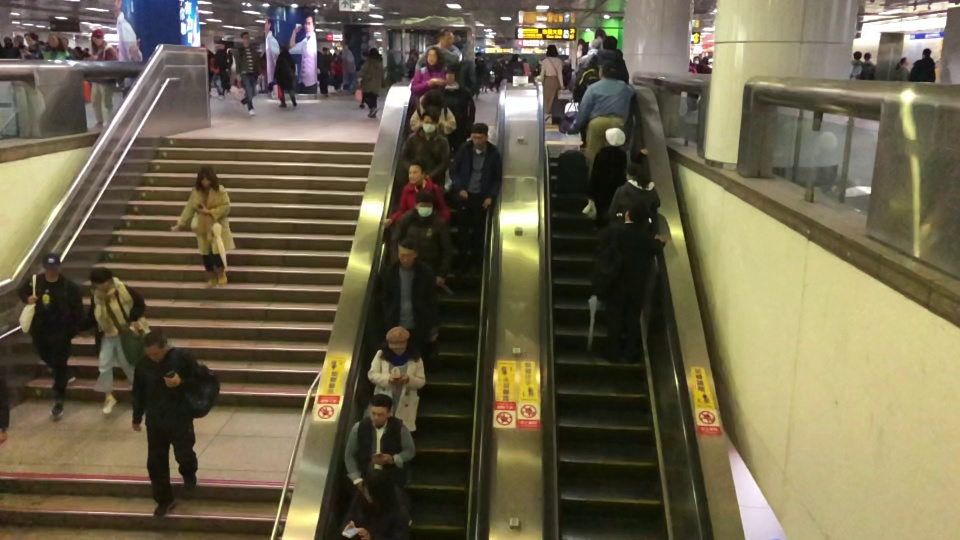person_head: (359, 467, 392, 503), (140, 326, 170, 364), (367, 392, 393, 430), (384, 324, 410, 356), (394, 237, 419, 268), (600, 124, 628, 150), (623, 201, 650, 227), (88, 265, 113, 293), (40, 250, 62, 280), (407, 156, 429, 186), (414, 188, 434, 217), (195, 166, 219, 189), (419, 110, 439, 136), (471, 119, 489, 147), (597, 59, 620, 80), (625, 158, 644, 183), (442, 62, 460, 86), (426, 46, 442, 70), (437, 29, 455, 50), (600, 34, 619, 50), (89, 29, 105, 45), (47, 34, 60, 50), (23, 31, 39, 44), (545, 44, 559, 58), (588, 37, 601, 50), (367, 46, 379, 59), (240, 32, 251, 46), (277, 44, 289, 55), (852, 49, 863, 61), (921, 47, 933, 58), (863, 50, 873, 62), (898, 56, 909, 66), (693, 54, 700, 66), (218, 40, 226, 50)
person_vbox: (131, 326, 201, 518), (592, 203, 668, 362), (19, 250, 86, 422), (87, 266, 147, 413), (170, 164, 236, 288), (451, 122, 502, 276), (379, 237, 438, 363), (343, 393, 417, 490), (574, 61, 634, 179), (365, 324, 425, 435), (587, 127, 649, 230), (572, 36, 629, 147), (388, 190, 450, 287), (336, 466, 412, 540), (382, 159, 449, 230), (402, 112, 450, 190), (609, 159, 660, 230), (83, 29, 119, 128), (438, 65, 476, 156), (411, 44, 447, 107), (237, 31, 263, 115), (358, 46, 386, 119), (410, 90, 456, 134), (539, 44, 565, 121), (414, 29, 462, 70), (568, 37, 600, 93), (273, 44, 299, 109), (214, 40, 234, 99), (909, 48, 938, 83), (41, 33, 70, 61), (20, 30, 45, 58), (847, 50, 865, 80), (891, 54, 910, 80), (861, 51, 877, 79)
